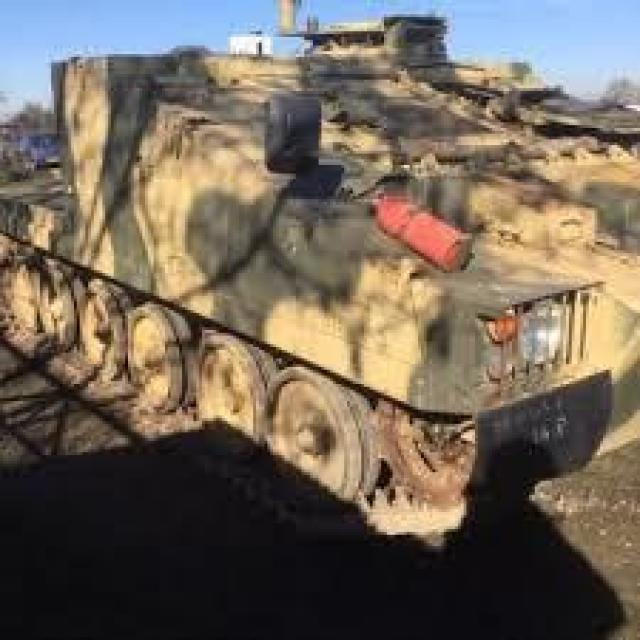Tanks: (27, 19, 567, 554)
